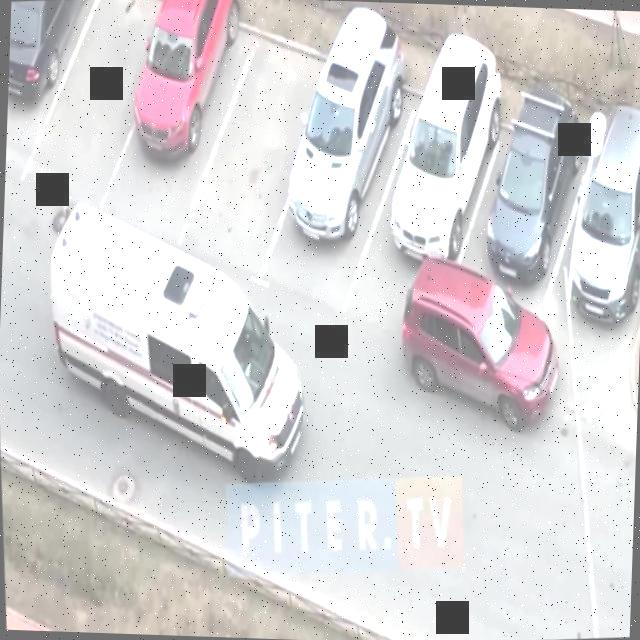car: (254, 4, 428, 309), (342, 45, 510, 317), (444, 70, 596, 338), (91, 0, 257, 245), (548, 98, 640, 363), (5, 0, 100, 178)
free: (161, 18, 336, 268), (22, 0, 175, 233)
